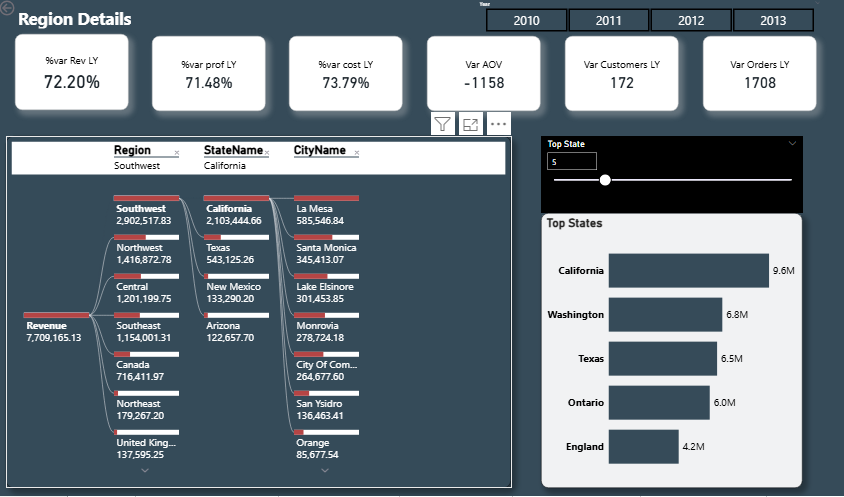

Layout of this report page (visuals, bound fields, positions):
{"tool":"powerbi","page":{"name":"Region Analysis","canvas":[1700,1000],"ordinal":5},"visuals":[{"type":"cardVisual","fields":{"Data":["Calculations.%var Rev LY"]},"box":[35.4,72.9,227,152.1],"z":0},{"type":"cardVisual","fields":{"Data":["Calculations.%var prof LY"]},"box":[309.6,75,227,150],"z":1000},{"type":"cardVisual","fields":{"Data":["Calculations.%var cost LY"]},"box":[583.8,75,227,150],"z":2000},{"type":"cardVisual","fields":{"Data":["Calculations.Var AOV"]},"box":[860,75,227,150],"z":3000},{"type":"cardVisual","fields":{"Data":["Calculations.Var Customers"]},"box":[1135.4,75,227.1,150],"z":4000},{"type":"cardVisual","fields":{"Data":["Calculations.Var Orders LY"]},"box":[1412.5,75,227,150],"z":5000},{"type":"decompositionTreeVisual","fields":{"ExplainBy":["Customers.Region","Customers.StateName","Customers.CityName"],"Analyze":["Calculations.Revenue"]},"box":[18.8,275,1010.4,704.2],"z":6000},{"type":"actionButton","title":"Region Details","box":[0,12.5,310.4,54.2],"z":7000},{"type":"actionButton","box":[0,0,100,40],"z":8000},{"type":"slicer","fields":{"Values":["Top State.Top State"]},"box":[1087.5,275,522.9,154.2],"z":9000},{"type":"barChart","title":"Top States ","fields":{"Category":["Customers.StateName"],"Y":["Top State.Top States"]},"box":[1087.5,429.2,522.9,550],"z":10000},{"type":"slicer","fields":{"Values":["Calendar2.Date.Variation.Date Hierarchy.Year"]},"box":[952.1,0,706.2,72.9],"z":11000}]}

Visuals, with their boxes in screenshot pixels (x1, y1, x2, y2), scaled from the page's 1700x1000 canvas onto the 844x497 screenshot:
cardVisual - Calculations.%var Rev LY: x1=18, y1=36, x2=130, y2=112
cardVisual - Calculations.%var prof LY: x1=154, y1=37, x2=266, y2=112
cardVisual - Calculations.%var cost LY: x1=290, y1=37, x2=403, y2=112
cardVisual - Calculations.Var AOV: x1=427, y1=37, x2=540, y2=112
cardVisual - Calculations.Var Customers: x1=564, y1=37, x2=676, y2=112
cardVisual - Calculations.Var Orders LY: x1=701, y1=37, x2=814, y2=112
decompositionTreeVisual - Customers.Region x Customers.StateName: x1=9, y1=137, x2=511, y2=487
"Region Details" actionButton: x1=0, y1=6, x2=154, y2=33
actionButton: x1=0, y1=0, x2=50, y2=20
slicer - Top State.Top State: x1=540, y1=137, x2=800, y2=213
"Top States " barChart: x1=540, y1=213, x2=800, y2=487
slicer - Calendar2.Date.Variation.Date Hierarchy.Year: x1=473, y1=0, x2=823, y2=36
